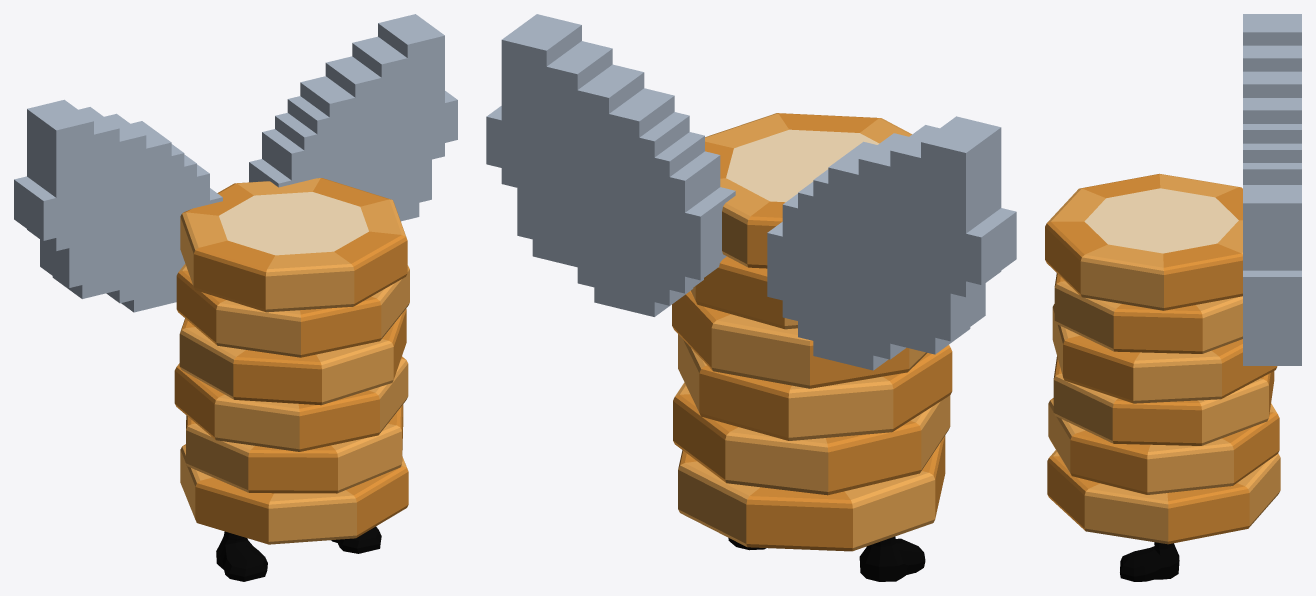
File: Supportv0.2.fbx
The picture shows the model from 3 angles, left to right: view 1: azimuth 30°, elevation 25°; view 2: azimuth 150°, elevation 25°; view 3: azimuth 270°, elevation 25°; orthographic projection. The views are drawn at different scales.
Visible parts, largest first — view 1: Cylinder.001, Cube.001, Legs.002; view 2: Cube.001, Cylinder.001, Legs.002; view 3: Cylinder.001, Cube.001, Legs.002.
Boxes of the visible parts, x1,y1,x2,y2 form: Cylinder.001: (174, 178, 409, 544); Cube.001: (14, 14, 457, 312); Legs.002: (216, 526, 381, 581); Cube.001: (486, 14, 1016, 370); Cylinder.001: (672, 113, 952, 551); Legs.002: (728, 536, 925, 581); Cylinder.001: (1045, 173, 1280, 544); Cube.001: (1243, 14, 1301, 365); Legs.002: (1120, 542, 1179, 581).
Size of the model in its own units: 1.83 by 0.9862 by 1.86.
